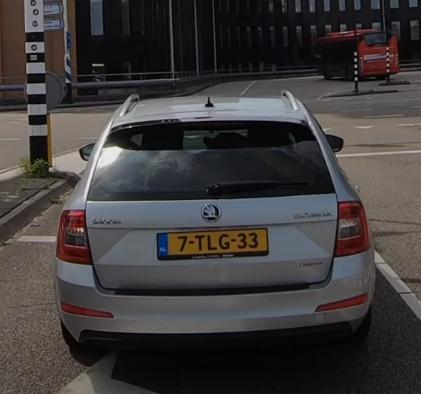license-plate: (156, 227, 272, 263)
